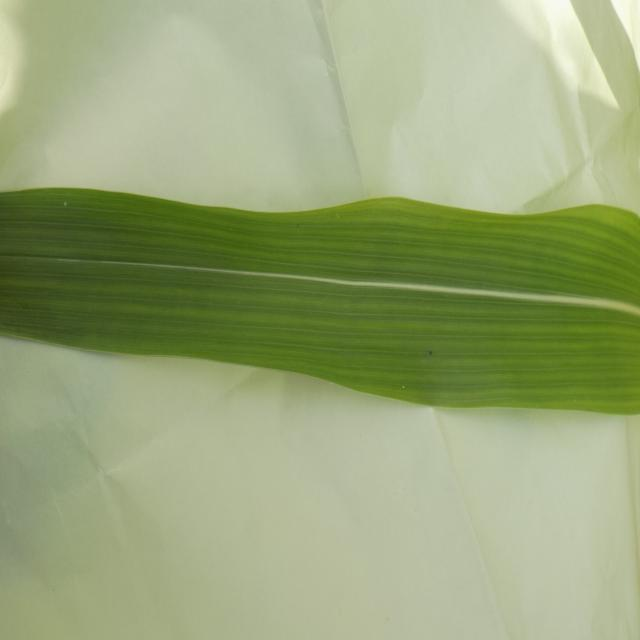millet_healthy: (0, 189, 640, 414)
